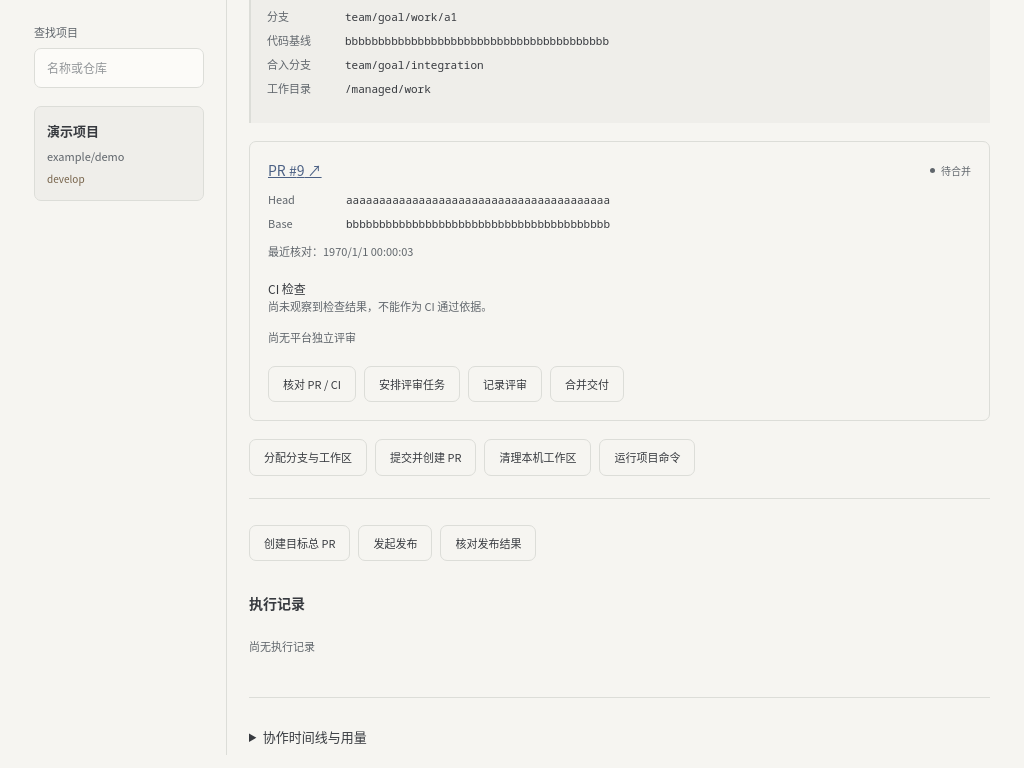
Test: GitHub 项目管理 › 合并被服务端拒绝时保留表单与错误
(page scrolled)
Click the button "合并交付".
click(587, 384)  # box [550,366,624,402]
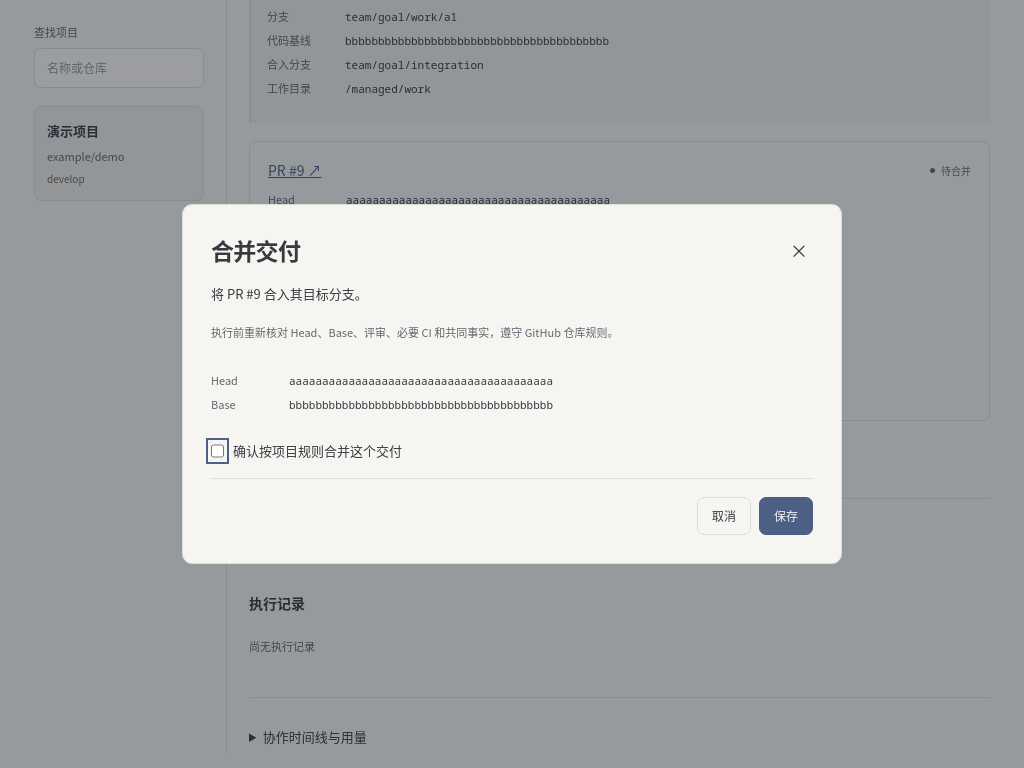
Click the checkbox labelled "确认按项目规则合并这个交付".
click(218, 451)  # box [211,443,224,459]
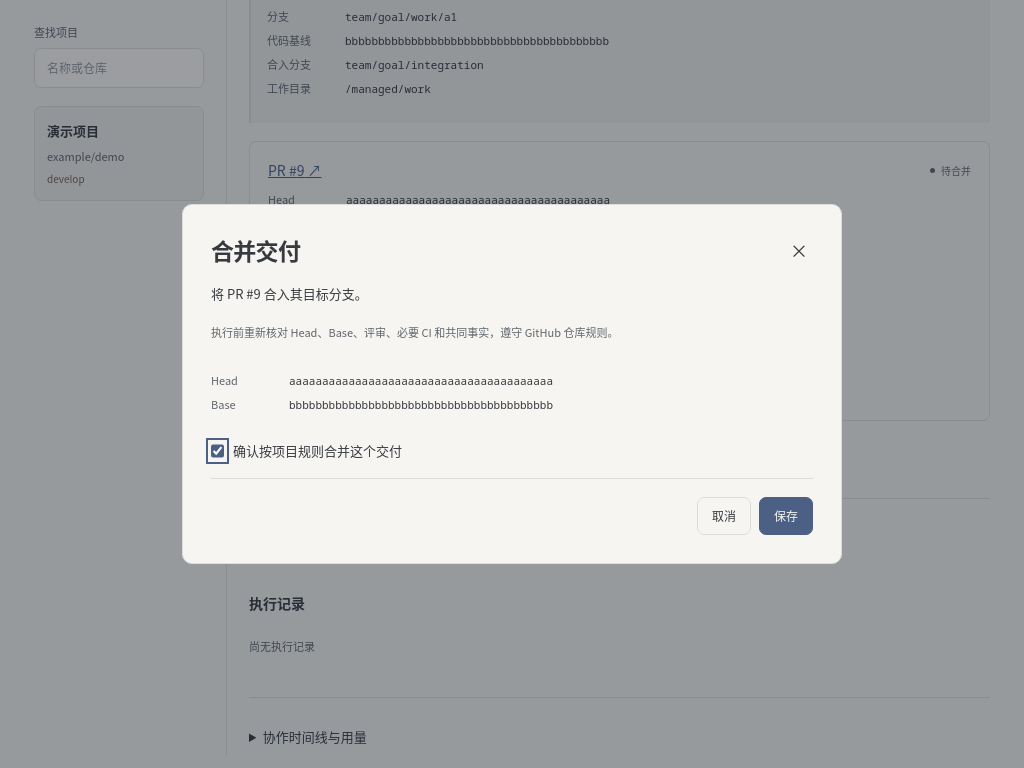
Click the button "保存".
click(786, 516)  # box [759,497,813,535]
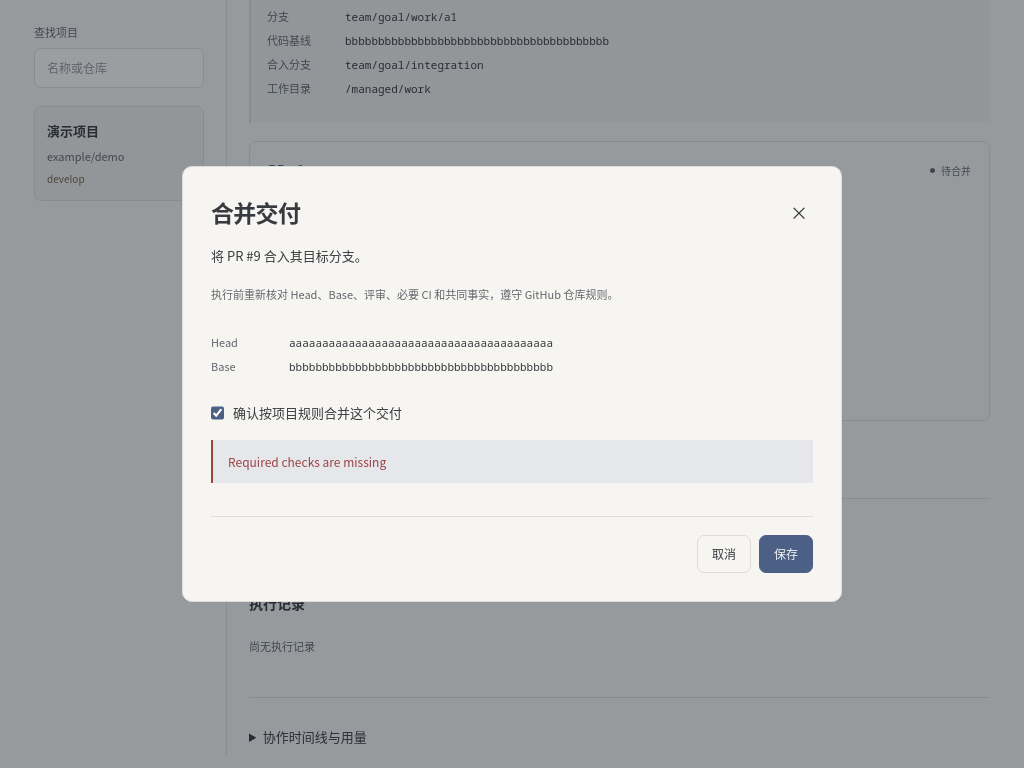
Expected: the dialog is shown, [182,166,842,602]
Expected: the message reads "Required checks are missing", [228,453,386,470]
